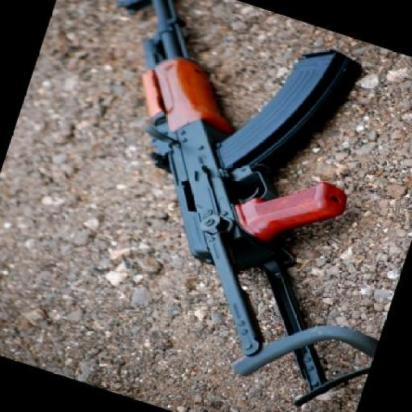Gun: (110, 0, 383, 393)
